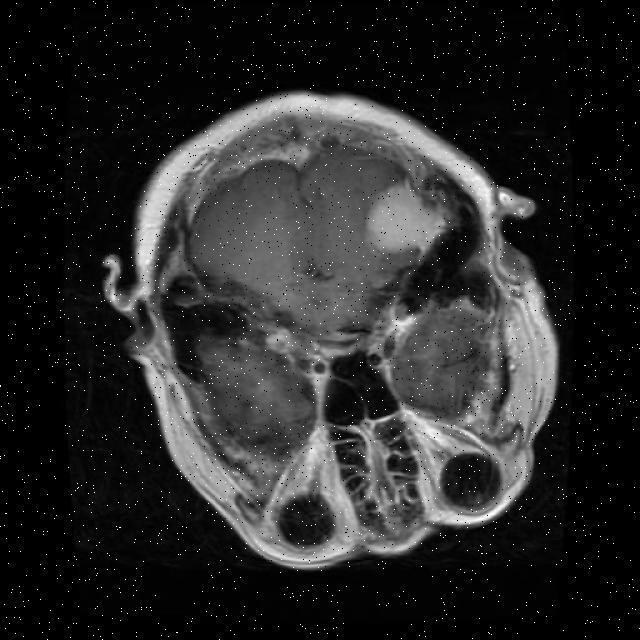Meningioma: (369, 183, 444, 253)
